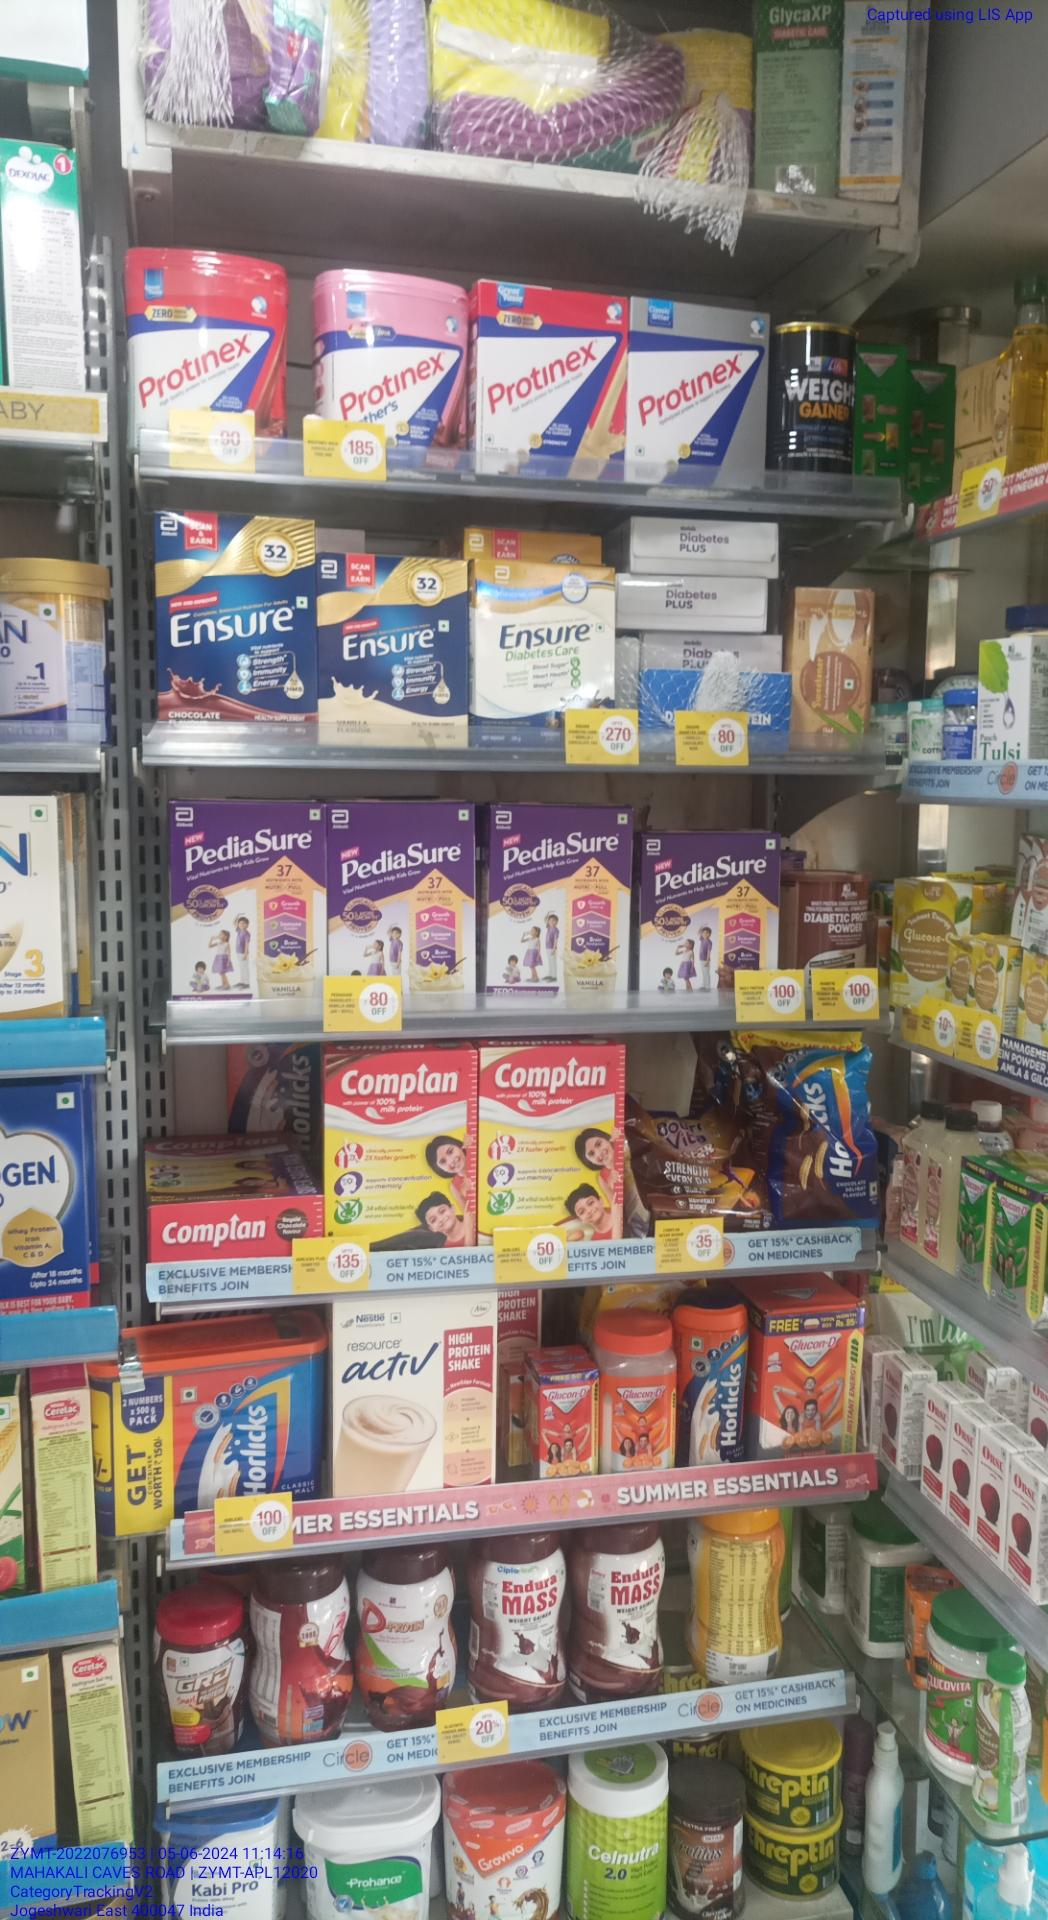COMPLAN_CHOCOLATE_500_GMS_PACK: (324, 1052, 475, 1237)
COMPLAN_KESAR_BADAM_500_GMS_PACK: (479, 1049, 623, 1228)
HORLICK_CLASSIC_MALT_500_G_JAR: (678, 1299, 745, 1463)
HORLICK_MALT_1_KG_CONTAINER: (101, 1345, 324, 1498)
PEDIASURE_CHOCOLATE_500_G_PACK: (643, 832, 781, 969)
PEDIASURE_VANILLA_500_G_PACK: (484, 801, 630, 1010), (173, 800, 321, 999), (328, 806, 475, 972)
PROTINEX_CHOCOLATE_400_G_JAR: (126, 252, 288, 410)
